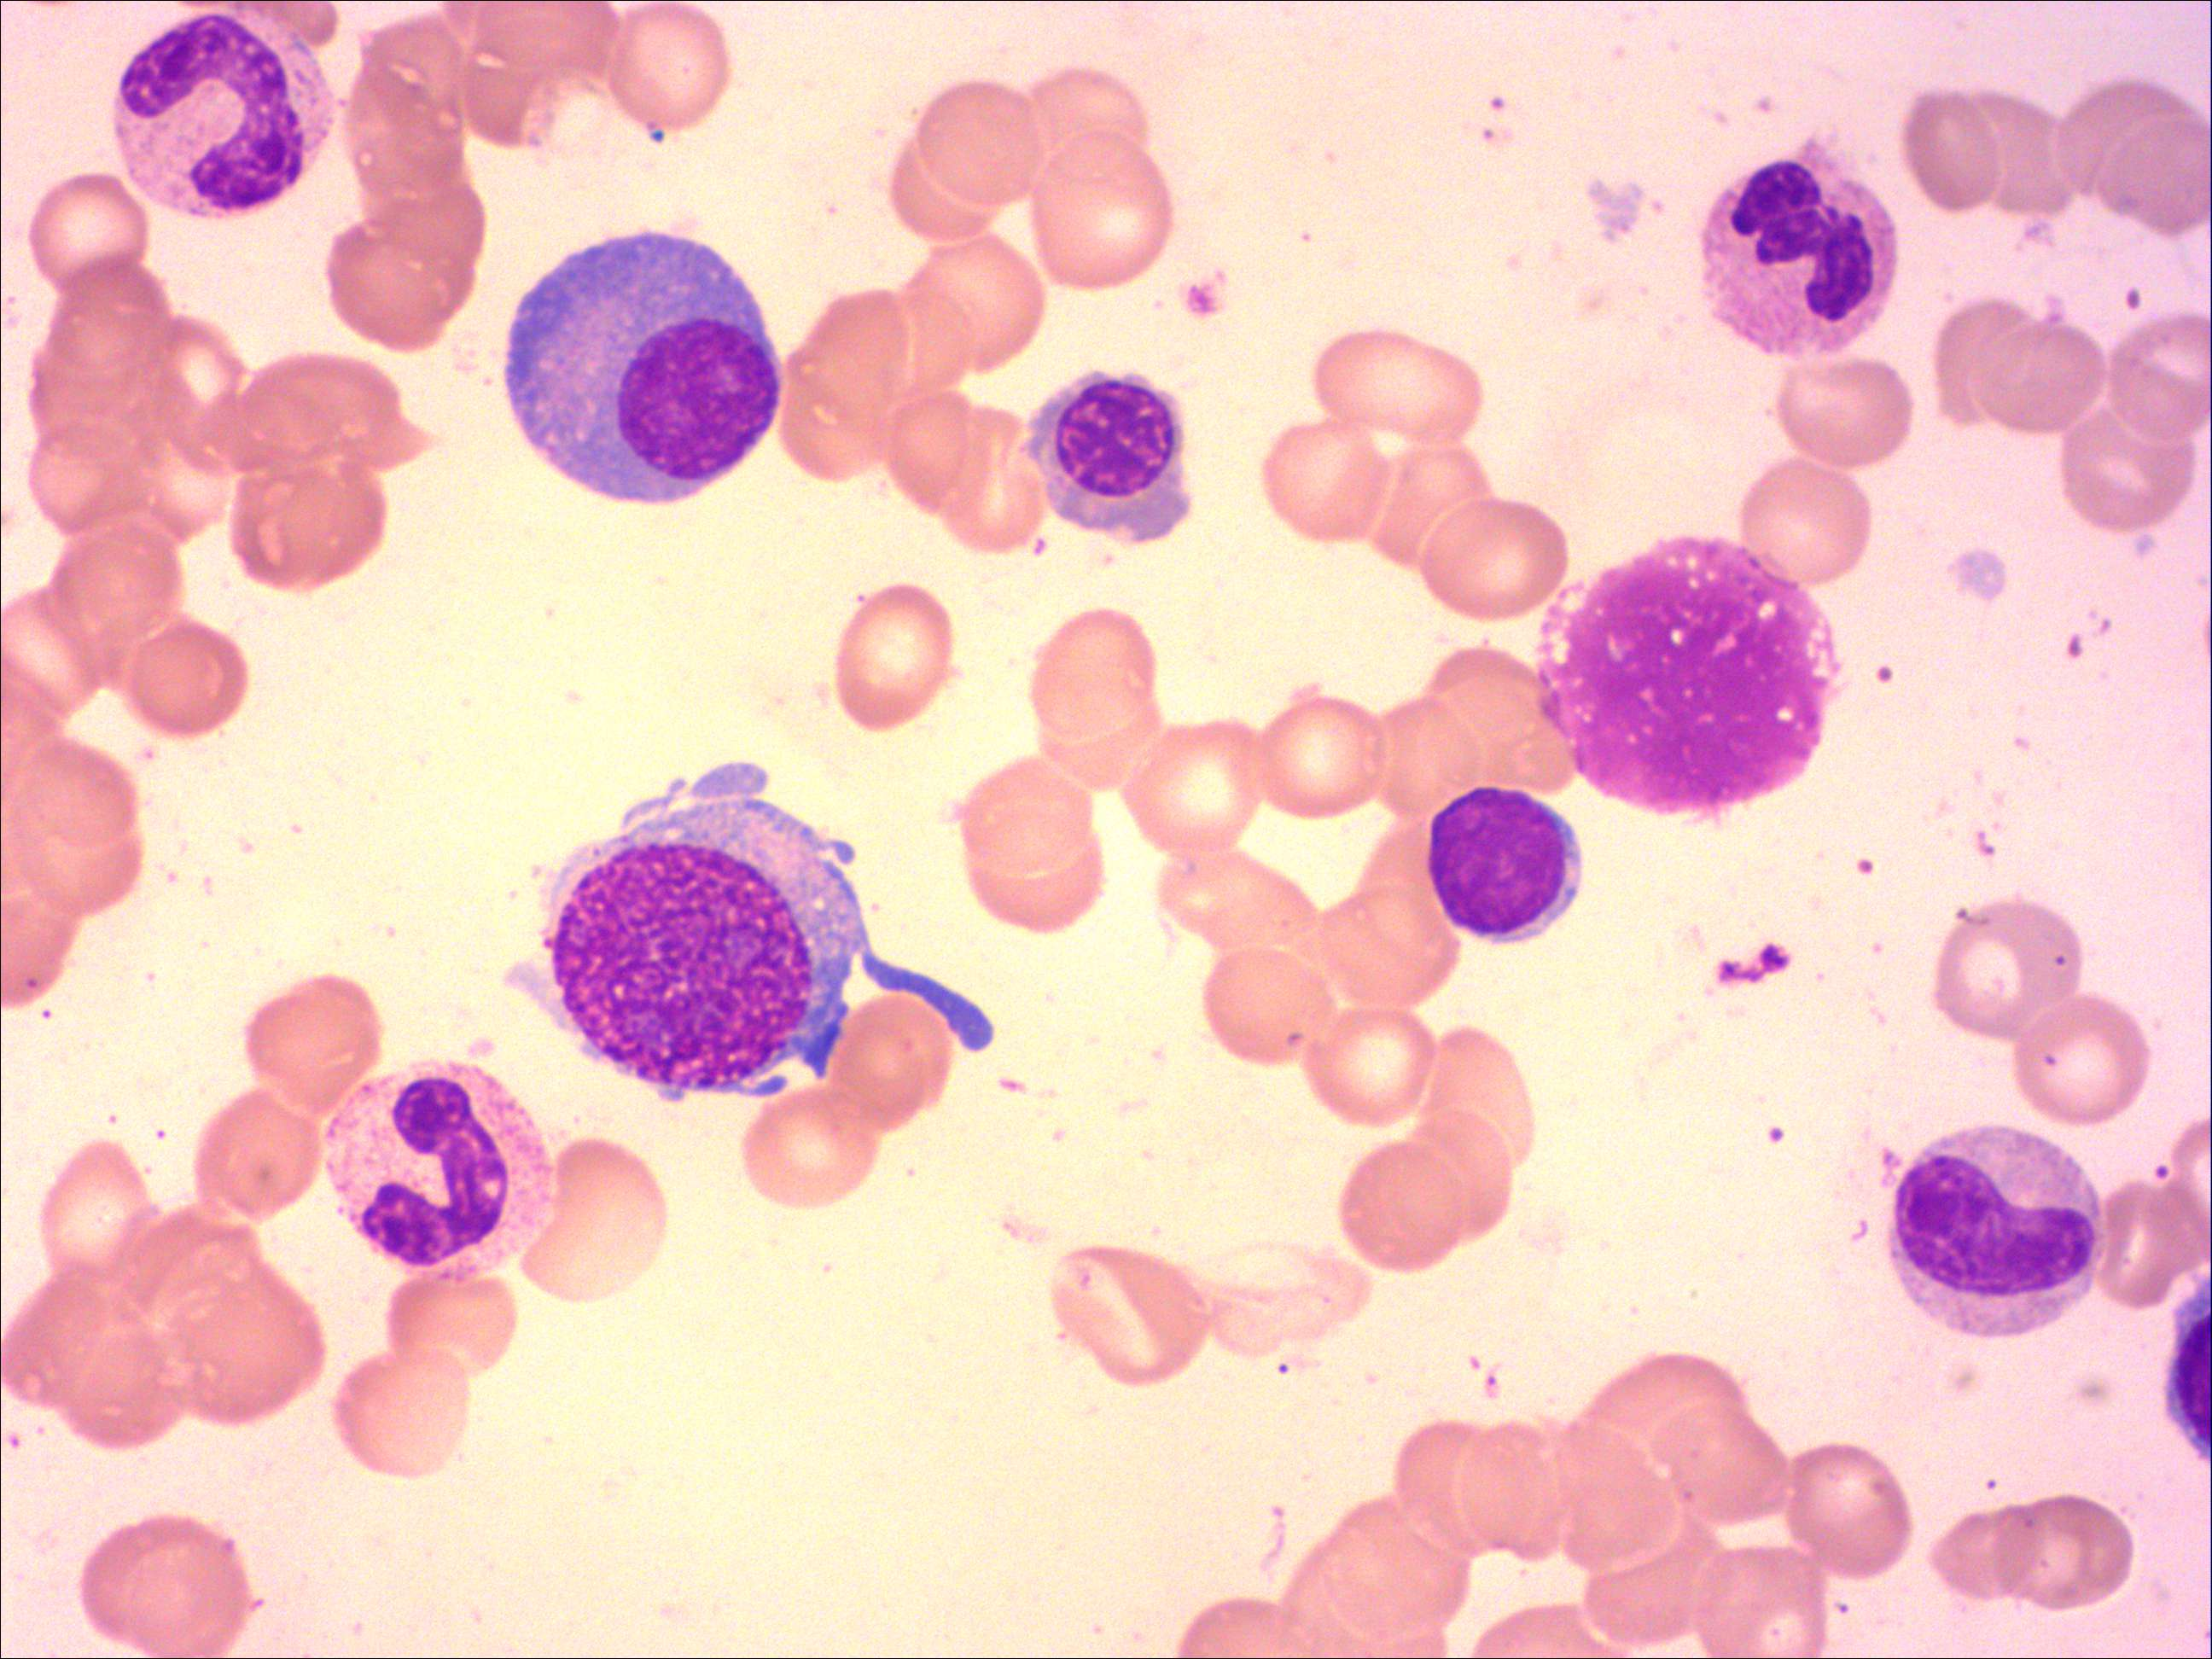21: (535, 796, 873, 1105)
23: (1015, 366, 1200, 549)
32: (1421, 781, 1587, 953)
4: (1883, 1121, 2114, 1345)
5: (315, 1054, 564, 1286), (106, 0, 341, 227)
51: (498, 228, 789, 509)
6: (1695, 134, 1904, 366)
x: (1531, 530, 1846, 823)
